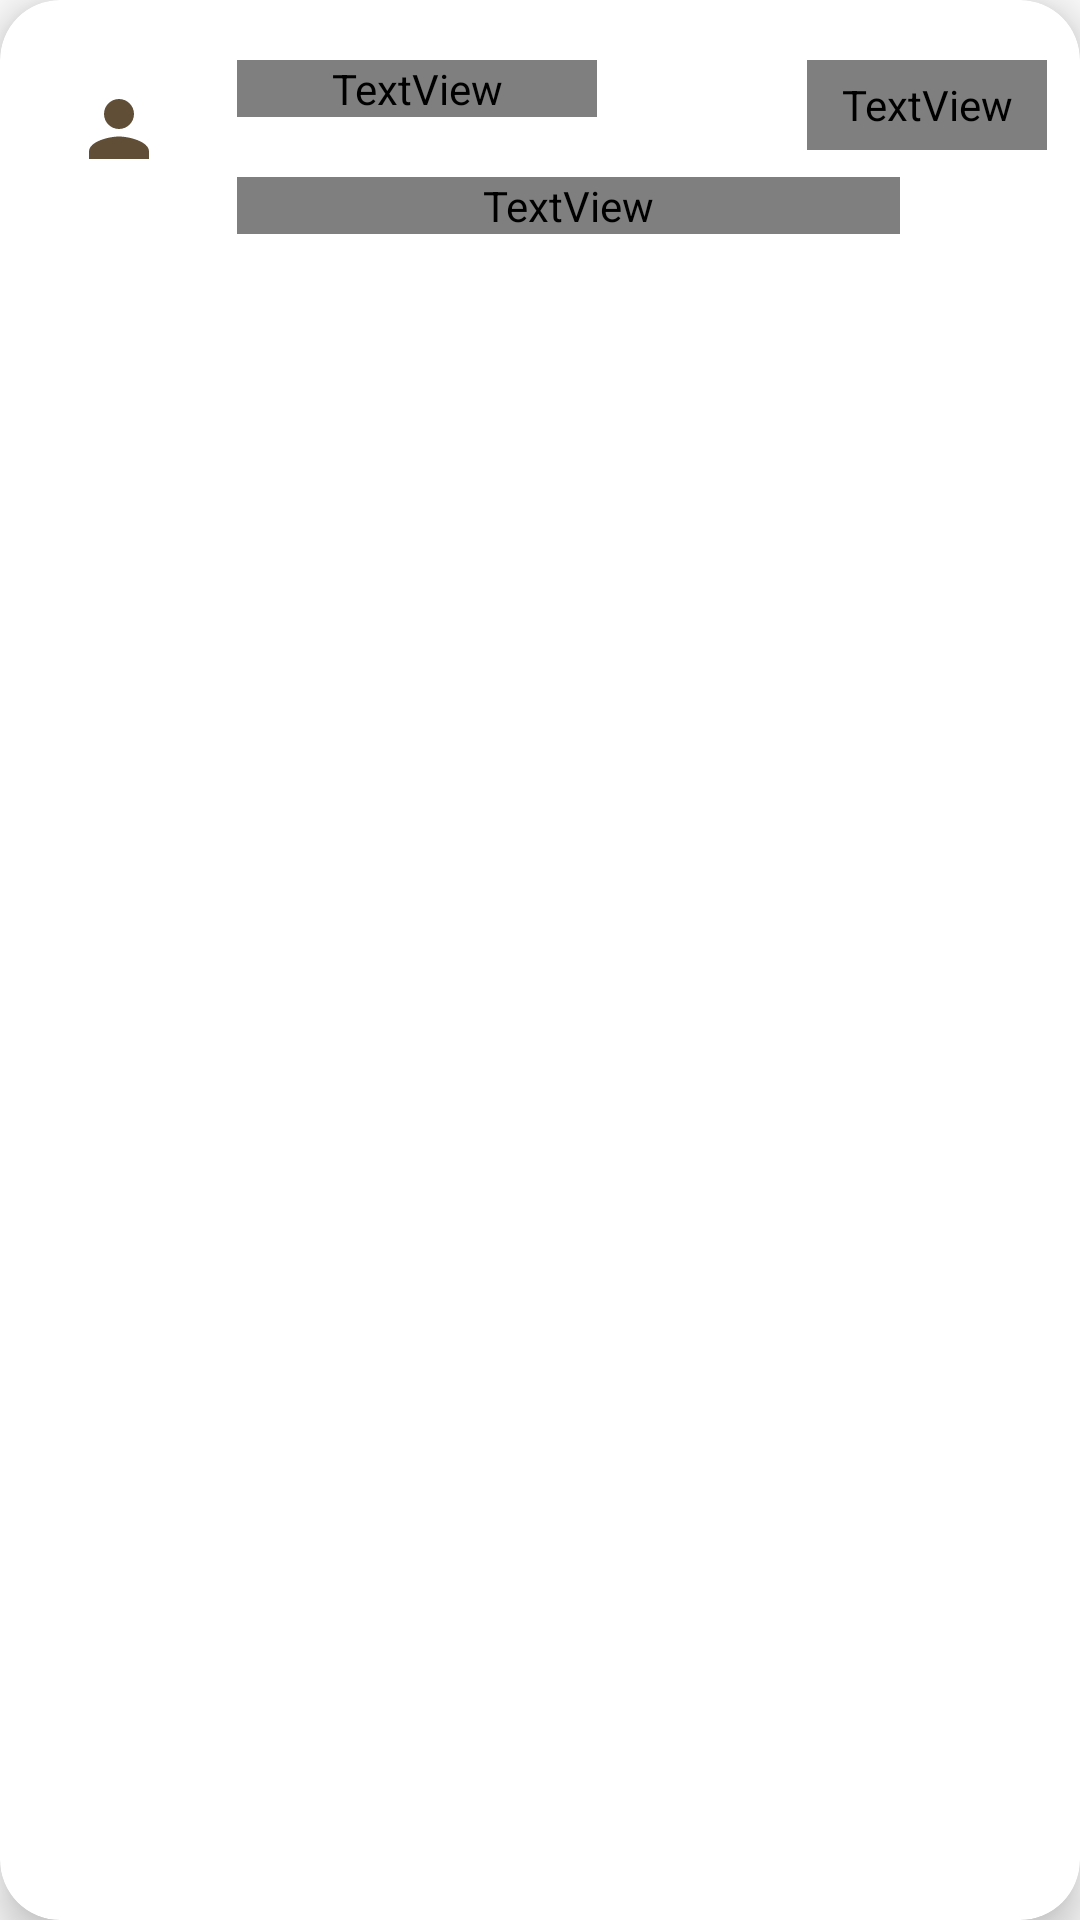

Point at icon controls on the screen. Image size 1080px x 1920px, points as (x=x, y=y).
per: (x=119, y=129)
